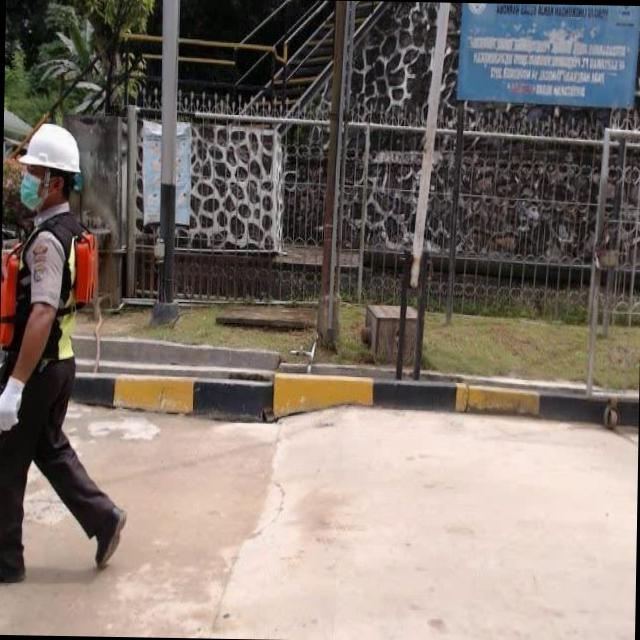boots: (86, 497, 126, 574)
gloves: (0, 364, 35, 436)
helmet: (16, 116, 82, 174)
vest: (0, 213, 95, 358)
